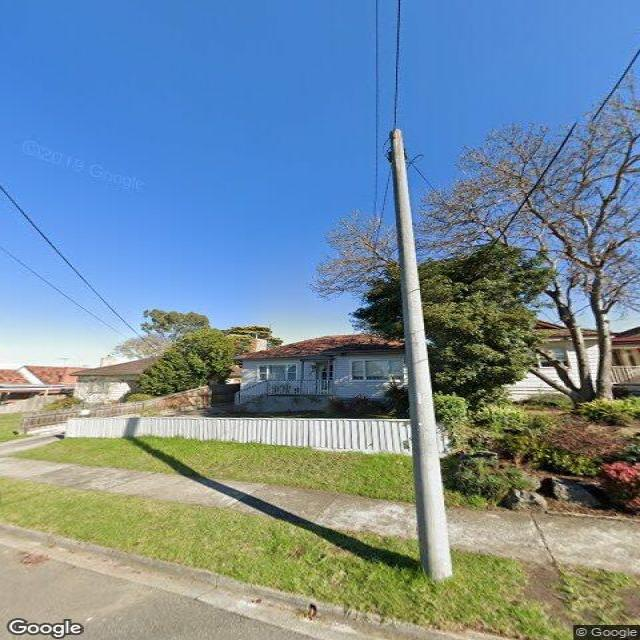concrete-pole: (388, 125, 455, 575)
